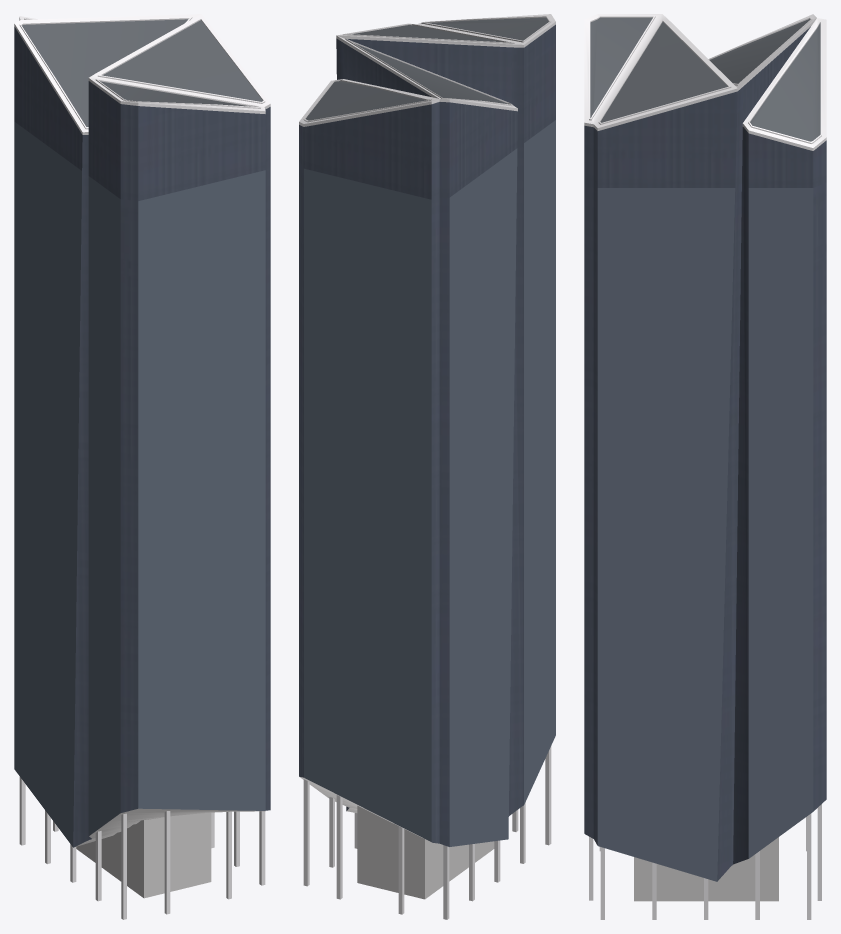
The model's file is ping_an_asset_tower_17c33239.glb.
3 views of the same model, side by side, from view 1: azimuth 30°, elevation 25°; view 2: azimuth 150°, elevation 25°; view 3: azimuth 270°, elevation 25° (orthographic).
Visible parts, largest first — view 1: ping_an_asset_tower_17c33239; view 2: ping_an_asset_tower_17c33239; view 3: ping_an_asset_tower_17c33239.
Part boxes in pixels (bbox=[...]): ping_an_asset_tower_17c33239: bbox=[14, 14, 270, 919]; ping_an_asset_tower_17c33239: bbox=[299, 14, 555, 919]; ping_an_asset_tower_17c33239: bbox=[584, 14, 826, 919].
Size of the model in its own units: 40 by 209 by 55.
Materials: 1 (1 with a texture image).
